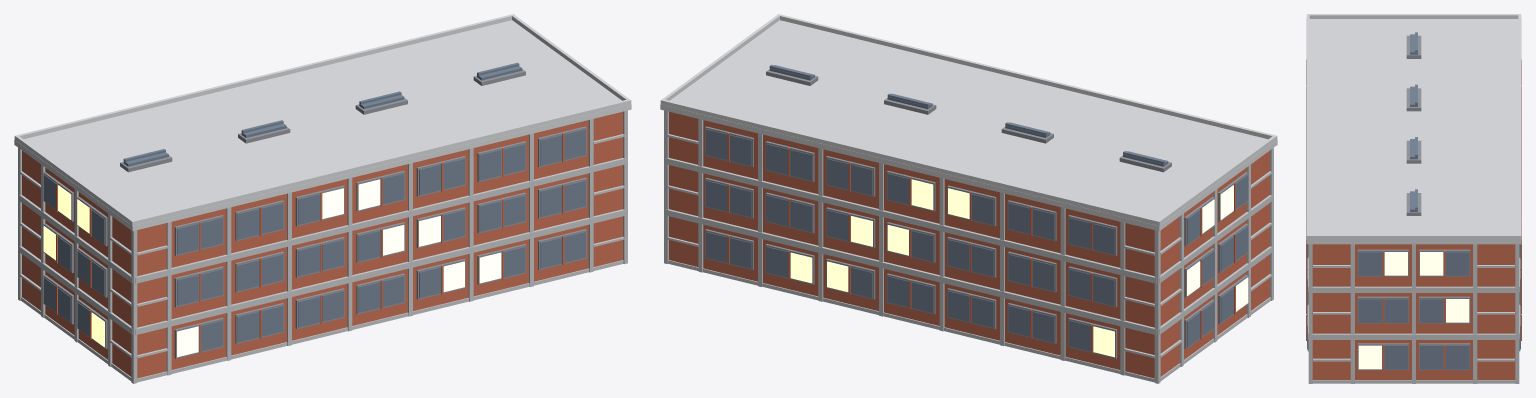
File: uch_qavatli.glb
3 renders of one model, left to right at view 1: azimuth 30°, elevation 25°; view 2: azimuth 150°, elevation 25°; view 3: azimuth 270°, elevation 25°, orthographic. The views are drawn at different scales.
Visible parts, largest first — view 1: Roof_perimeter_long_rim, Building_solid_terracotta_mass, Foundation_plinth, Front_F1_bay_1_pane_2, Front_F1_bay_1_window_recess, Front_F1_bay_1_pane_1, Roof_vent_1_lower_duct; view 2: Roof_perimeter_long_rim, Building_solid_terracotta_mass, Foundation_plinth, Front_F1_bay_1_pane_2, Front_F1_bay_1_window_recess, Front_F1_bay_1_pane_1, Roof_vent_1_lower_duct; view 3: Roof_perimeter_long_rim, Building_solid_terracotta_mass, Foundation_plinth, Front_F1_bay_1_pane_2, Front_F1_bay_1_window_recess, Front_F1_bay_1_pane_1, Roof_vent_1_lower_duct.
Boxes of the visible parts, bbox=[...] form: Roof_perimeter_long_rim: bbox=[14, 14, 631, 231]; Building_solid_terracotta_mass: bbox=[22, 111, 622, 378]; Foundation_plinth: bbox=[18, 110, 627, 383]; Front_F1_bay_1_pane_2: bbox=[43, 129, 585, 351]; Front_F1_bay_1_window_recess: bbox=[43, 69, 586, 358]; Front_F1_bay_1_pane_1: bbox=[43, 179, 501, 357]; Roof_vent_1_lower_duct: bbox=[123, 62, 522, 166]; Roof_perimeter_long_rim: bbox=[660, 14, 1277, 231]; Building_solid_terracotta_mass: bbox=[669, 111, 1269, 378]; Foundation_plinth: bbox=[664, 110, 1273, 383]; Front_F1_bay_1_pane_2: bbox=[706, 129, 1248, 351]; Front_F1_bay_1_window_recess: bbox=[705, 69, 1248, 358]; Front_F1_bay_1_pane_1: bbox=[790, 179, 1248, 357]; Roof_vent_1_lower_duct: bbox=[769, 64, 1168, 166]; Roof_perimeter_long_rim: bbox=[1306, 14, 1521, 244]; Building_solid_terracotta_mass: bbox=[1306, 59, 1521, 379]; Foundation_plinth: bbox=[1308, 244, 1519, 383]; Front_F1_bay_1_pane_2: bbox=[1307, 244, 1520, 369]; Front_F1_bay_1_window_recess: bbox=[1307, 35, 1520, 370]; Front_F1_bay_1_pane_1: bbox=[1358, 252, 1469, 369]; Roof_vent_1_lower_duct: bbox=[1410, 32, 1417, 211].
Size of the model in its own units: 30.53 by 9.87 by 12.53.
